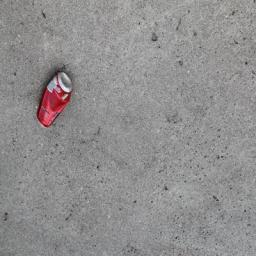FOD: (32, 69, 77, 133)
